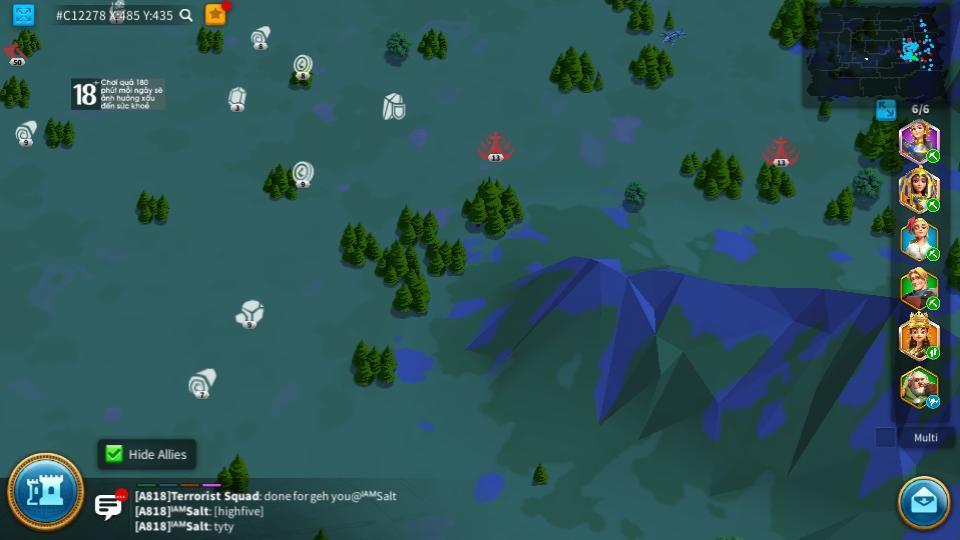gem-z-out: (224, 86, 247, 110)
march_farming: (925, 197, 941, 212), (925, 149, 941, 162)
march_idle: (925, 396, 942, 408)
march_marching: (925, 297, 942, 310), (925, 347, 941, 359)
